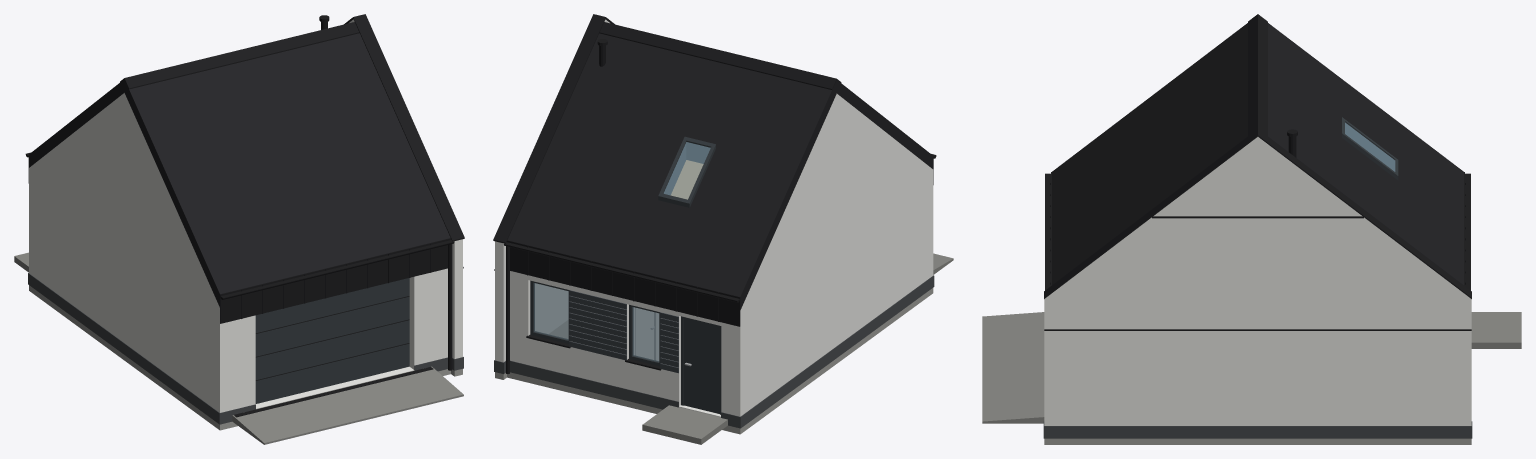
File: garaz_antracyt.glb
The picture shows the model from 3 angles, left to right: view 1: azimuth 30°, elevation 25°; view 2: azimuth 150°, elevation 25°; view 3: azimuth 270°, elevation 25°; orthographic projection. The views are drawn at different scales.
Parts seen in each view (by area): view 1: Dach – połać frontowa, Ściana szczytowa lewa (od strony domu), BG <BG brama garażowa segmentowa 400x225>, Ściana frontowa, Podjazd przed bramą (spadek 8%), Pas blachy frontowy, Opierzenie ściany szczytowej, Cokół – tynk mozaikowy, Gąsior, Płyta fundamentowa, Dach – połać ogrodowa, Ściana szczytowa prawa (+5 smaller); view 2: Dach – połać ogrodowa, Ściana szczytowa lewa (od strony domu), Ściana ogrodowa, Pas blachy ogrodowy, Cokół – tynk mozaikowy, Deska elewacyjna – ogród, D1 <D1 drzwi zewnętrzne 90x210>, Opierzenie ściany szczytowej, Gąsior, Ściana szczytowa prawa, OP <OP okno dachowe 78x148>, Płyta fundamentowa (+10 smaller); view 3: Ściana szczytowa prawa, Dach – połać frontowa, Dach – połać ogrodowa, Podjazd przed bramą (spadek 8%), Cokół – tynk mozaikowy, Opierzenie ściany szczytowej, Płyta fundamentowa, Gąsior, Podest przy drzwiach D1, OP <OP okno dachowe 78x148>, Płyta pod ścianą szczytową, Pas blachy na szczycie – dolny (+3 smaller).
Part boxes in pixels (x1,y1,x2,y2): Dach – połać frontowa: (124, 33, 450, 307); Ściana szczytowa lewa (od strony domu): (33, 93, 215, 408); BG <BG brama garażowa segmentowa 400x225>: (255, 278, 409, 403); Ściana frontowa: (215, 268, 447, 412); Podjazd przed bramą (spadek 8%): (232, 366, 463, 444); Pas blachy frontowy: (220, 238, 451, 323); Opierzenie ściany szczytowej: (344, 14, 464, 241); Cokół – tynk mozaikowy: (28, 273, 463, 424); Gąsior: (120, 22, 359, 89); Płyta fundamentowa: (29, 285, 450, 430); Dach – połać ogrodowa: (29, 79, 124, 167); Ściana szczytowa prawa: (349, 19, 462, 358); Dach – połać ogrodowa: (507, 33, 836, 309); Ściana szczytowa lewa (od strony domu): (745, 93, 928, 412); Ściana ogrodowa: (510, 271, 745, 417); Pas blachy ogrodowy: (507, 240, 740, 326); Cokół – tynk mozaikowy: (494, 275, 934, 428); Deska elewacyjna – ogród: (569, 290, 678, 373); D1 <D1 drzwi zewnętrzne 90x210>: (681, 316, 721, 414); Opierzenie ściany szczytowej: (493, 14, 614, 243); Gąsior: (599, 22, 841, 89); Ściana szczytowa prawa: (495, 19, 609, 362); OP <OP okno dachowe 78x148>: (658, 136, 715, 207); Płyta fundamentowa: (507, 288, 933, 434); Ściana szczytowa prawa: (1044, 137, 1471, 425); Dach – połać frontowa: (1052, 23, 1247, 284); Dach – połać ogrodowa: (1268, 23, 1463, 284); Podjazd przed bramą (spadek 8%): (982, 312, 1044, 423); Cokół – tynk mozaikowy: (1043, 421, 1472, 438); Opierzenie ściany szczytowej: (1044, 129, 1471, 298); Płyta fundamentowa: (1052, 438, 1463, 444); Gąsior: (1248, 14, 1267, 135); Podest przy drzwiach D1: (1471, 312, 1521, 348); OP <OP okno dachowe 78x148>: (1342, 117, 1398, 180); Płyta pod ścianą szczytową: (1044, 438, 1471, 444); Pas blachy na szczycie – dolny: (1044, 329, 1471, 330).
Size of what is drawn, in the model's own units: 6.05 by 6.89 by 10.85.
